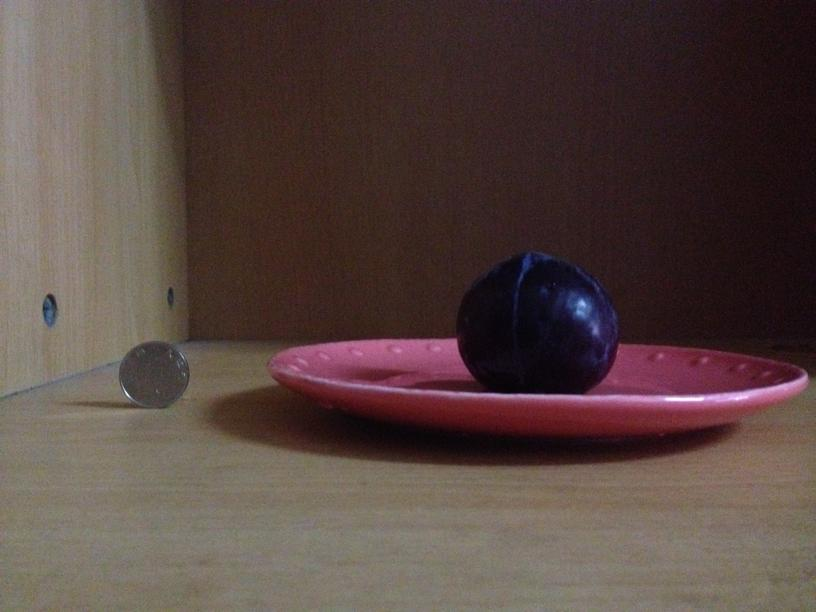coin: (111, 338, 190, 409)
plum: (456, 251, 615, 394)
